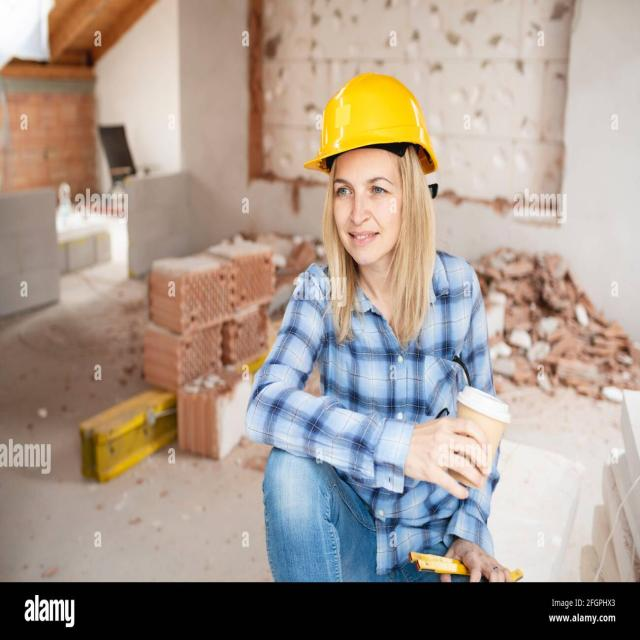helmet: (308, 68, 441, 182)
